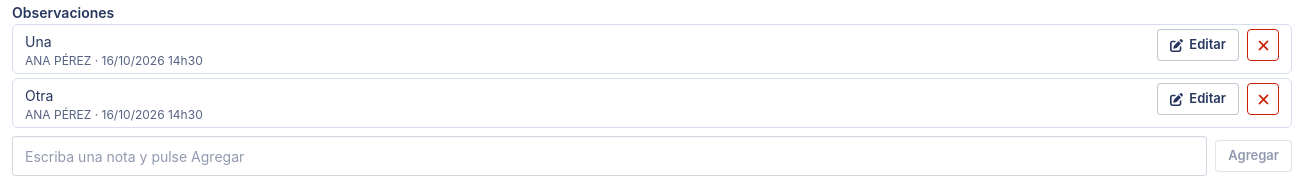
Test: ObservacionesOperativo · agregar › quitar una nota la retira de la lista
The width and height of the screenshot is (1304, 193).
What coordinates should you click on to do the following:
click the button named "Quitar la nota: Una"
I would click on:
 (1263, 45)
Its box is [1247, 29, 1279, 61].
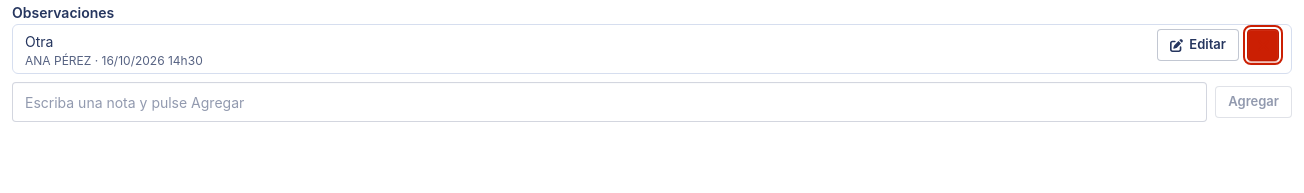
Result: the text "Otra" is shown at [25, 33, 53, 50]
